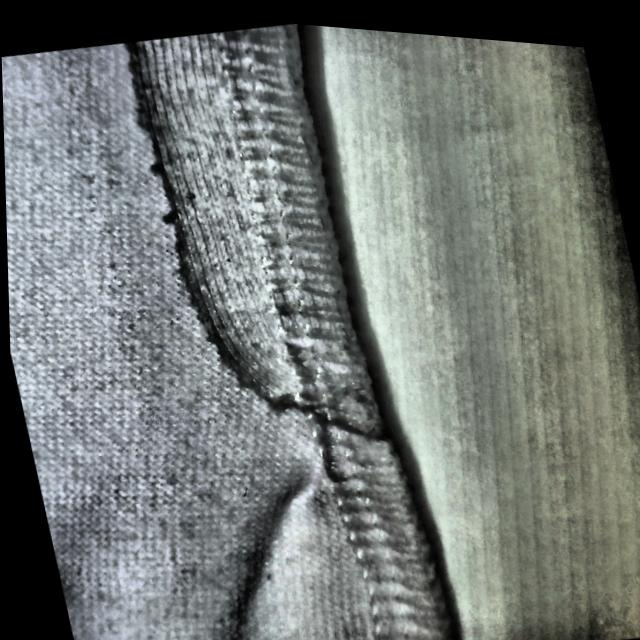seam: (49, 5, 404, 451)
